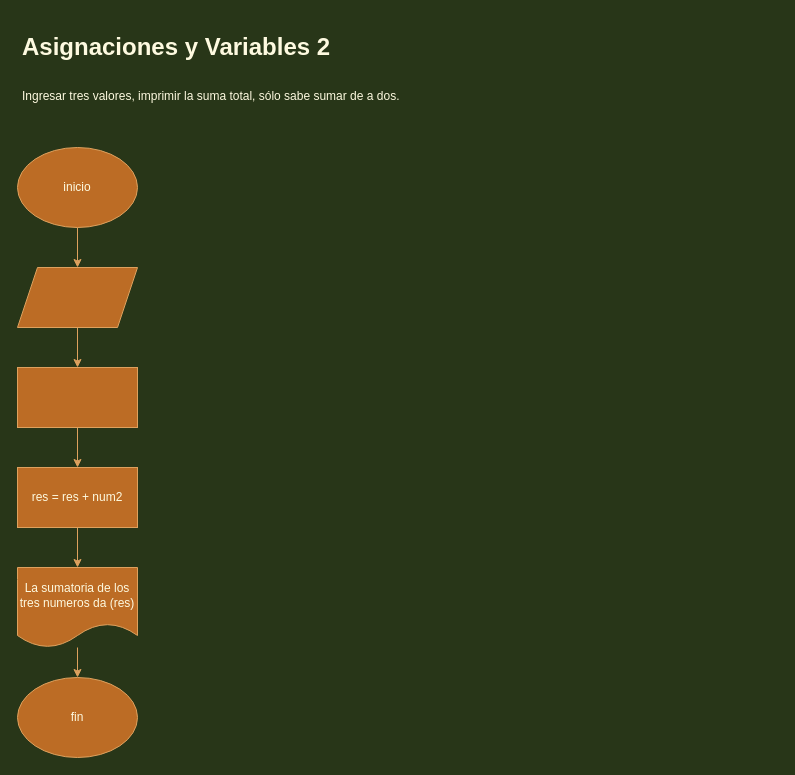
The diagram is 795 pixels wide and 775 high, and some of its shapes have lost their labels. The box of each missing label's shape, as (x1, y1, x2, y2) in pixels:
num0 num1 num2 res: (16, 266, 138, 328)
res = num0 + num1: (16, 366, 138, 428)
